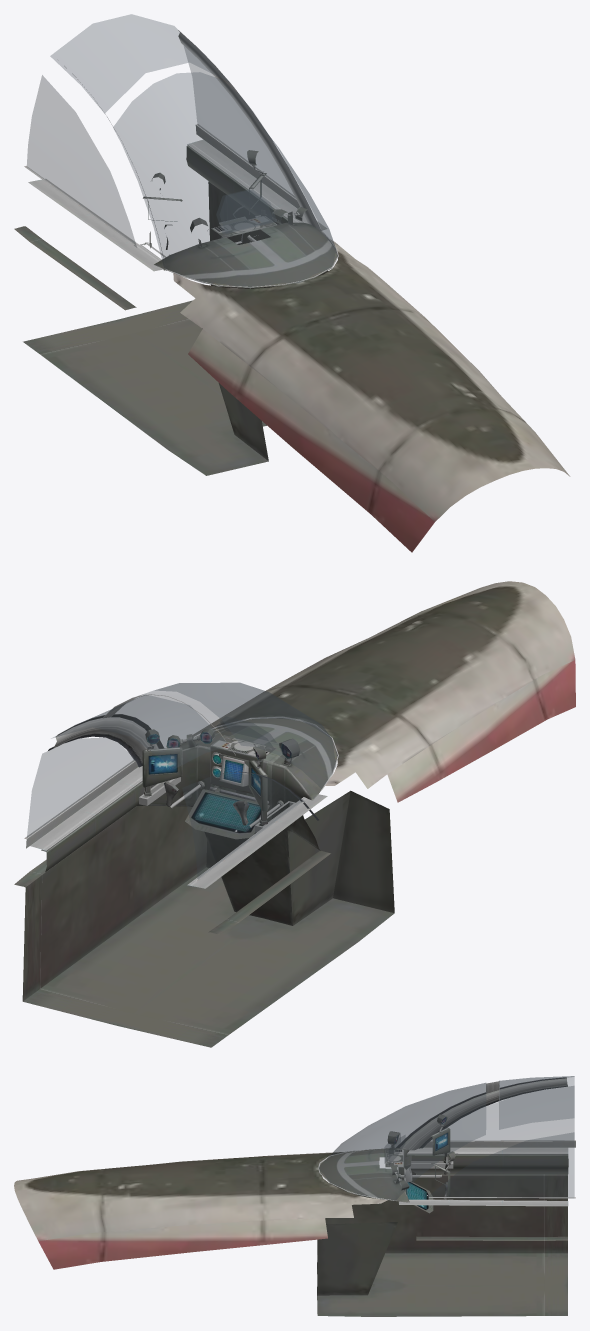
The model's file is arc170cockpit.lod1.glb.
3 views of the same model, one above another, from view 1: azimuth 30°, elevation 25°; view 2: azimuth 150°, elevation 25°; view 3: azimuth 270°, elevation 25° (orthographic). The views are drawn at different scales.
Size of the model in its own units: 1.17 by 1.58 by 3.96.
3 materials, 2 textured.
